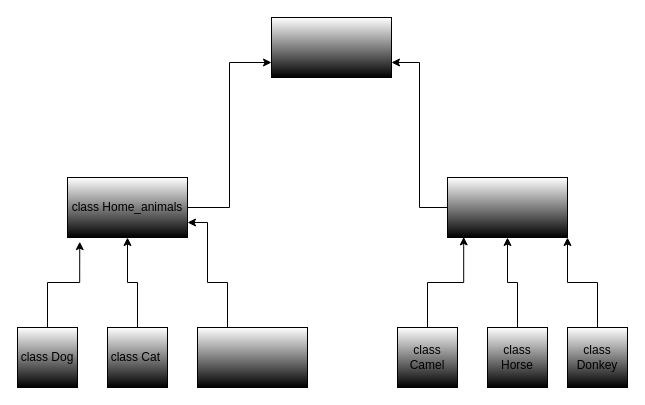
Some shapes in this 645 by 405 pixel diagram are drawn without their labels. Each missing label, with the centre of its shape:
"class Animals" goes at (331,47).
"class Guinea_pig" goes at (252,357).
"class Slimy_animals" goes at (507,207).
